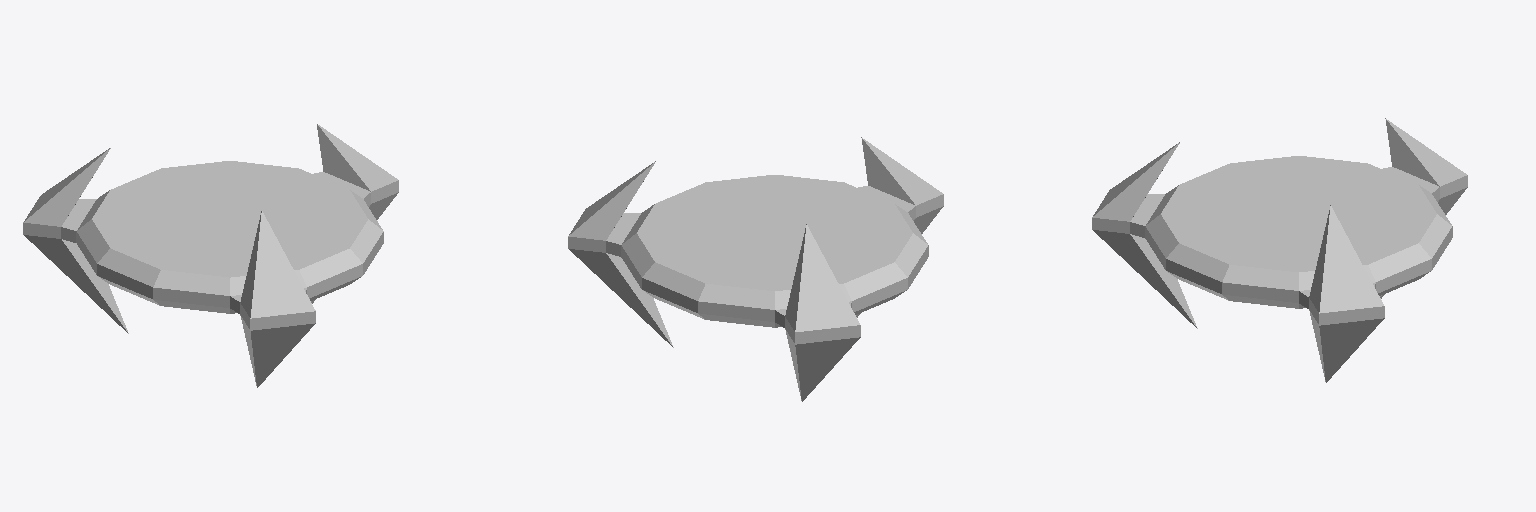
The model's file is ring.obj.
The picture shows the model from 3 angles: view 1: azimuth 30°, elevation 25°; view 2: azimuth 150°, elevation 25°; view 3: azimuth 270°, elevation 25°; orthographic projection.
Visible parts, largest first — view 1: Cylinder01_sep3; view 2: Cylinder01_sep3; view 3: Cylinder01_sep3.
Boxes of the visible parts, box(x1,y1,x2,y2) form: Cylinder01_sep3: box(23, 124, 398, 387); Cylinder01_sep3: box(568, 137, 943, 401); Cylinder01_sep3: box(1092, 118, 1467, 382).
Bounding box in the file's own units: 9.34 × 5.11 × 9.34.